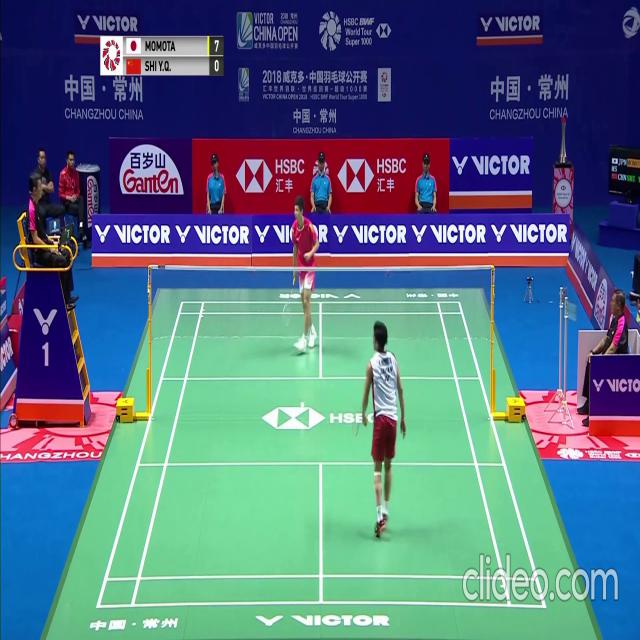Shuttlecock: (300, 401, 304, 408)
